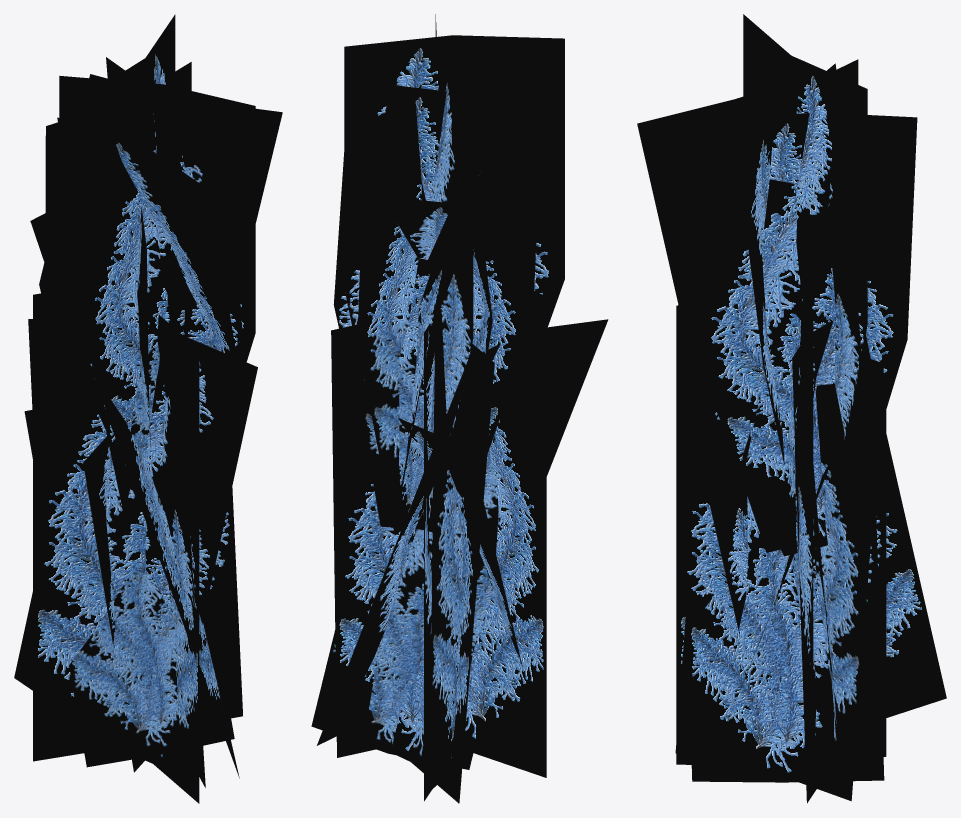
File: plante_5_3.FBX
3 views of the same model, side by side, from view 1: azimuth 30°, elevation 25°; view 2: azimuth 150°, elevation 25°; view 3: azimuth 270°, elevation 25° (orthographic). The views are drawn at different scales.
Parts seen in each view (by area): view 1: Plane451; view 2: Plane451; view 3: Plane451.
Part boxes in pixels (x1=…): Plane451: x1=14, y1=14, x2=282, y2=803; Plane451: x1=311, y1=14, x2=608, y2=803; Plane451: x1=637, y1=14, x2=946, y2=803.
Bounding box in the file's own units: 153 × 484 × 190.
